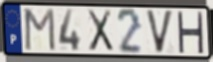2: (115, 7, 146, 56)
4: (57, 7, 84, 53)
H: (175, 10, 205, 55)
M: (23, 8, 57, 53)
V: (144, 9, 175, 56)
X: (86, 9, 115, 53)
